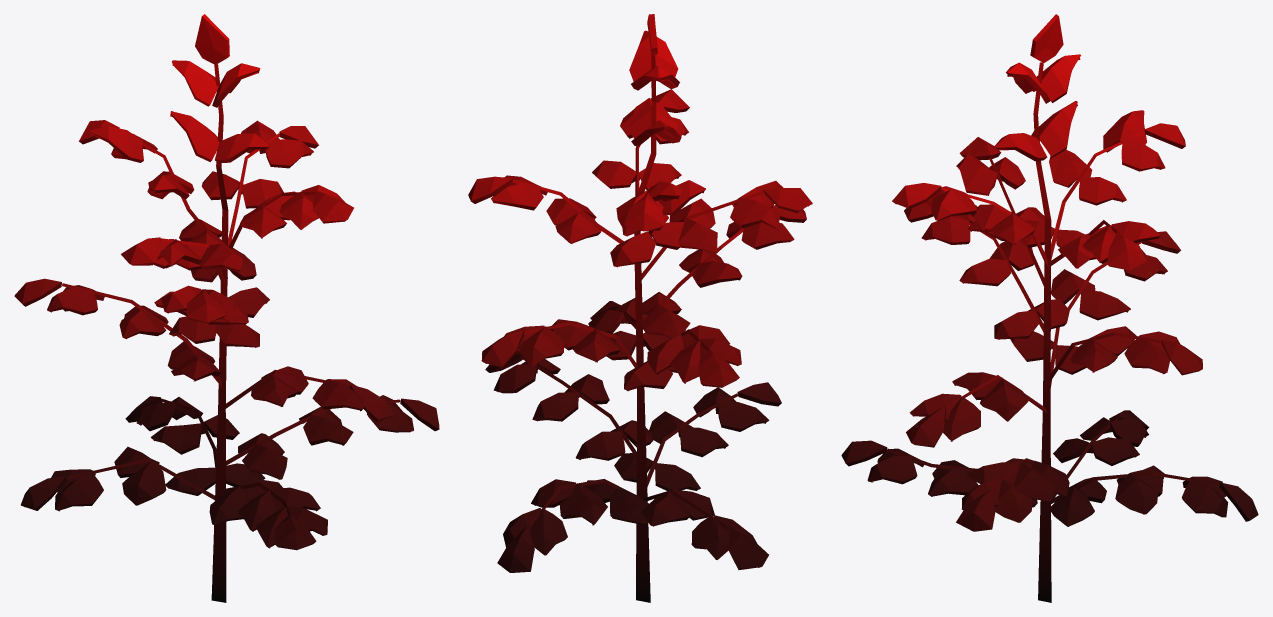
Rendered from TreeWalnutSmall08.fbx.
3 views of the same model, side by side, from view 1: azimuth 30°, elevation 25°; view 2: azimuth 150°, elevation 25°; view 3: azimuth 270°, elevation 25° (orthographic). The views are drawn at different scales.
Visible parts, largest first — view 1: TreeWalnutSmall08_LOD0; view 2: TreeWalnutSmall08_LOD0; view 3: TreeWalnutSmall08_LOD0.
Boxes of the visible parts, bbox=[...] form: TreeWalnutSmall08_LOD0: bbox=[14, 14, 439, 602]; TreeWalnutSmall08_LOD0: bbox=[468, 14, 812, 602]; TreeWalnutSmall08_LOD0: bbox=[841, 14, 1258, 602].
Size of what is drawn, in the model's own units: 140 by 228 by 149.
